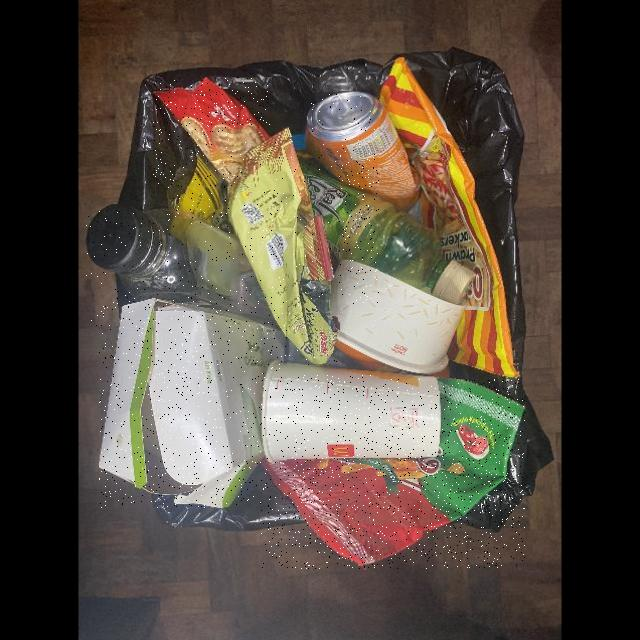metal: (306, 92, 420, 211)
paper: (100, 298, 287, 508)
plastic: (297, 155, 475, 304), (86, 204, 283, 330)
wrapper: (260, 376, 525, 569), (380, 57, 519, 379), (228, 128, 339, 366), (153, 78, 271, 185), (168, 137, 237, 237)
